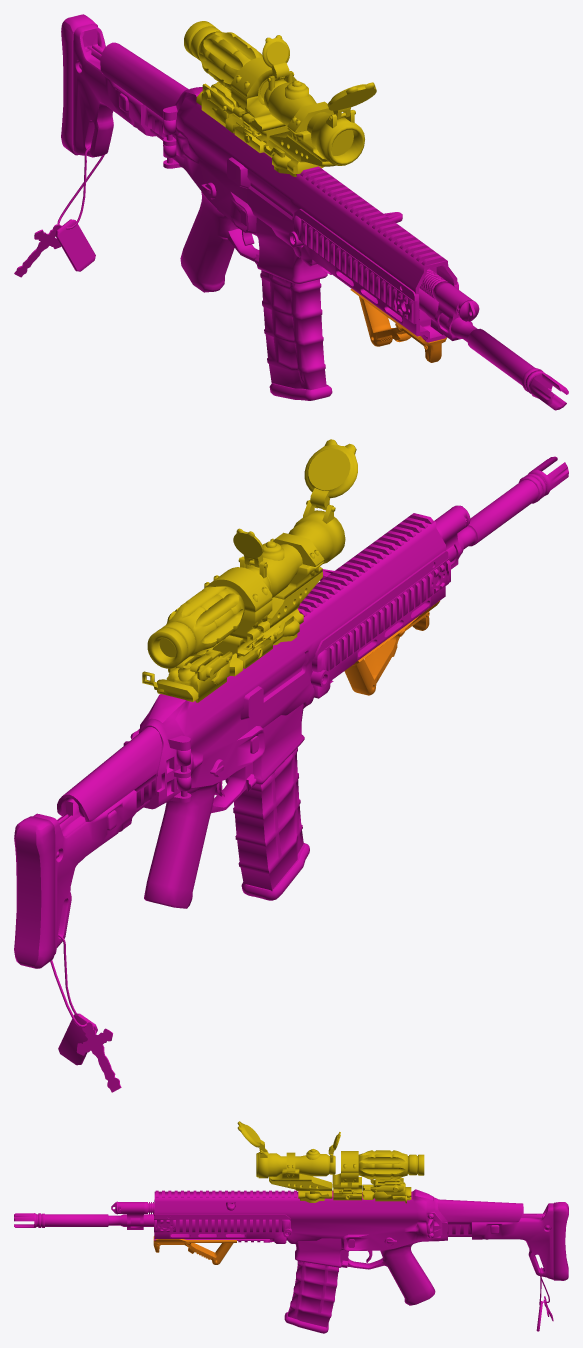
The picture shows the model from 3 angles, top to bottom: view 1: azimuth 30°, elevation 25°; view 2: azimuth 150°, elevation 25°; view 3: azimuth 270°, elevation 25°; orthographic projection. The views are drawn at different scales.
Visible parts, largest first — view 1: body, Scope, lens, tail, Magazines, barrel, Grip, Pendant, base; view 2: body, lens, tail, Scope, Magazines, Grip, barrel, Pendant, base; view 3: body, lens, tail, Scope, Magazines, barrel, Grip, base, Pendant.
Boxes of the visible parts, x1,y1,x2,y2 form: body: (100,42,458,342); Scope: (262,35,376,176); lens: (184,21,296,152); tail: (61,14,145,157); Magazines: (260,270,332,400); barrel: (418,268,568,410); Grip: (180,191,259,292); Pendant: (14,146,104,277); base: (350,288,447,362); body: (57,513,450,821); lens: (142,567,272,702); tail: (14,790,136,968); Scope: (233,439,357,645); Magazines: (233,747,309,900); Grip: (144,762,256,908); barrel: (434,456,568,569); Pendant: (50,934,121,1092); base: (344,601,439,695); body: (154,1189,523,1267); lens: (332,1150,424,1203); tail: (472,1202,568,1280); Scope: (237,1121,340,1202); Magazines: (284,1261,338,1333); barrel: (14,1201,172,1229); Grip: (340,1240,447,1305); base: (153,1236,236,1264); Pendant: (536,1267,553,1331).
Bounding box in the file's own units: 0.1281 × 0.4282 × 1.
